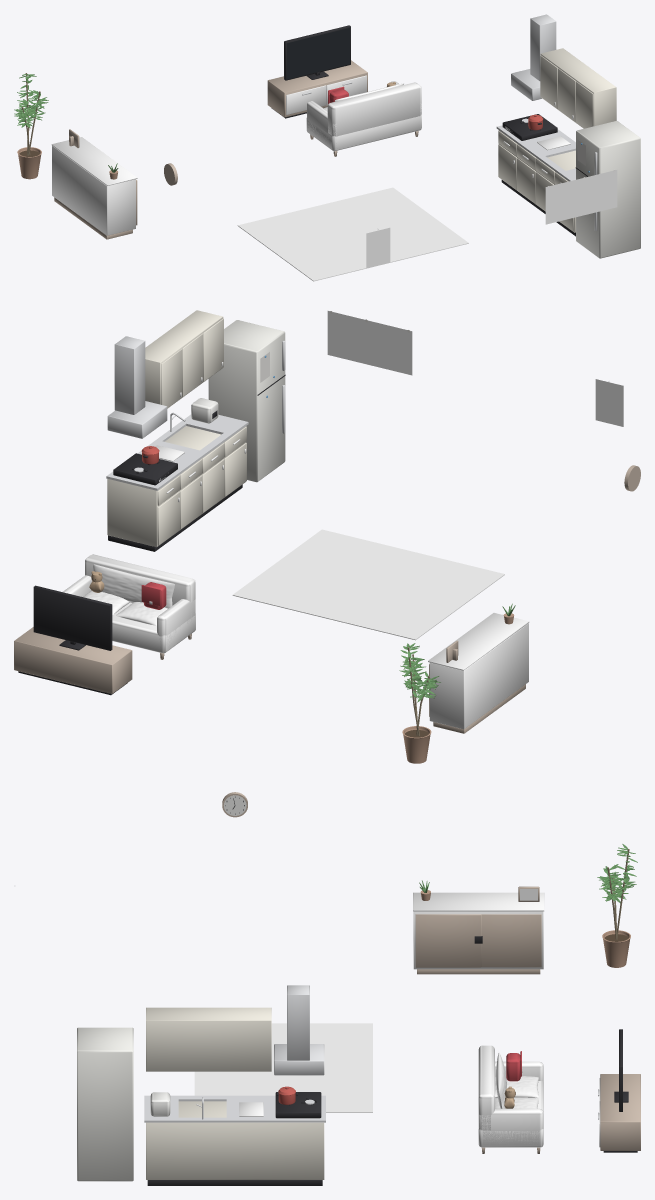
File: KurodaHome_Interior.fbx
The picture shows the model from 3 angles, top to bottom: view 1: azimuth 30°, elevation 25°; view 2: azimuth 150°, elevation 25°; view 3: azimuth 270°, elevation 25°; orthographic projection. The views are drawn at different scales.
Visible parts, largest first — view 1: KurodaHome_Interior; view 2: KurodaHome_Interior; view 3: KurodaHome_Interior.
Boxes of the visible parts, <box> form: KurodaHome_Interior: <box>14,14,640,281</box>; KurodaHome_Interior: <box>14,310,640,763</box>; KurodaHome_Interior: <box>14,792,640,1185</box>.
Size of the model in its own units: 6.85 by 2.6 by 7.72.
